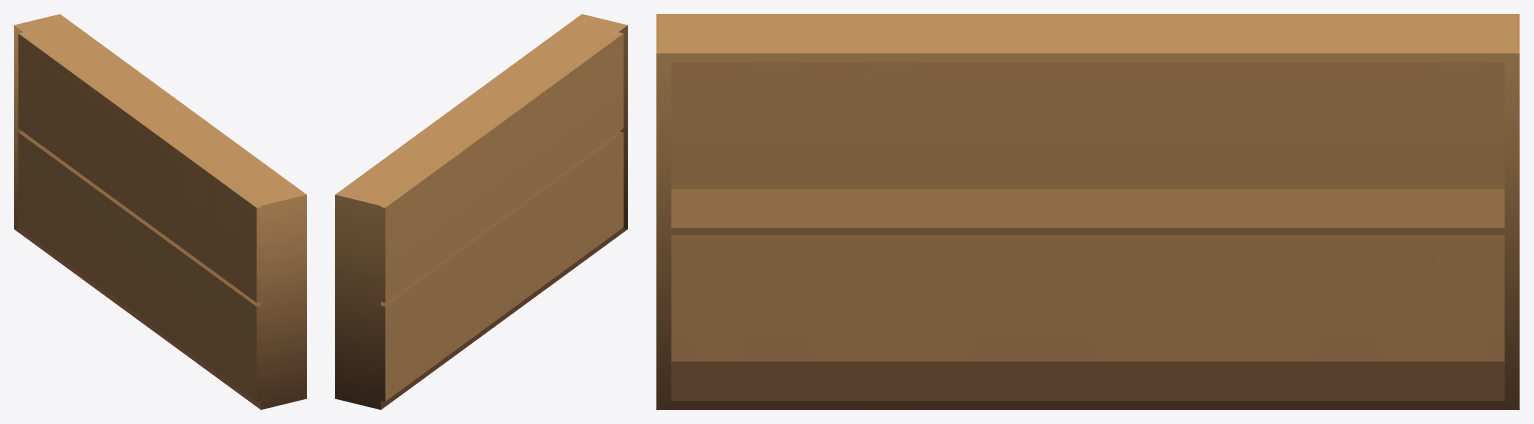
The model's file is MountedShelves.FBX.
3 views of the same model, side by side, from view 1: azimuth 30°, elevation 25°; view 2: azimuth 150°, elevation 25°; view 3: azimuth 270°, elevation 25° (orthographic). The views are drawn at different scales.
Visible parts, largest first — view 1: Shelving Unity; view 2: Shelving Unity; view 3: Shelving Unity.
Boxes of the visible parts, box(x1,y1,x2,y2) form: Shelving Unity: box(14, 14, 306, 409); Shelving Unity: box(335, 14, 627, 409); Shelving Unity: box(656, 14, 1519, 409).
Size of the model in its own units: 7.41 by 31.47 by 69.02.
1 material, 1 textured.
